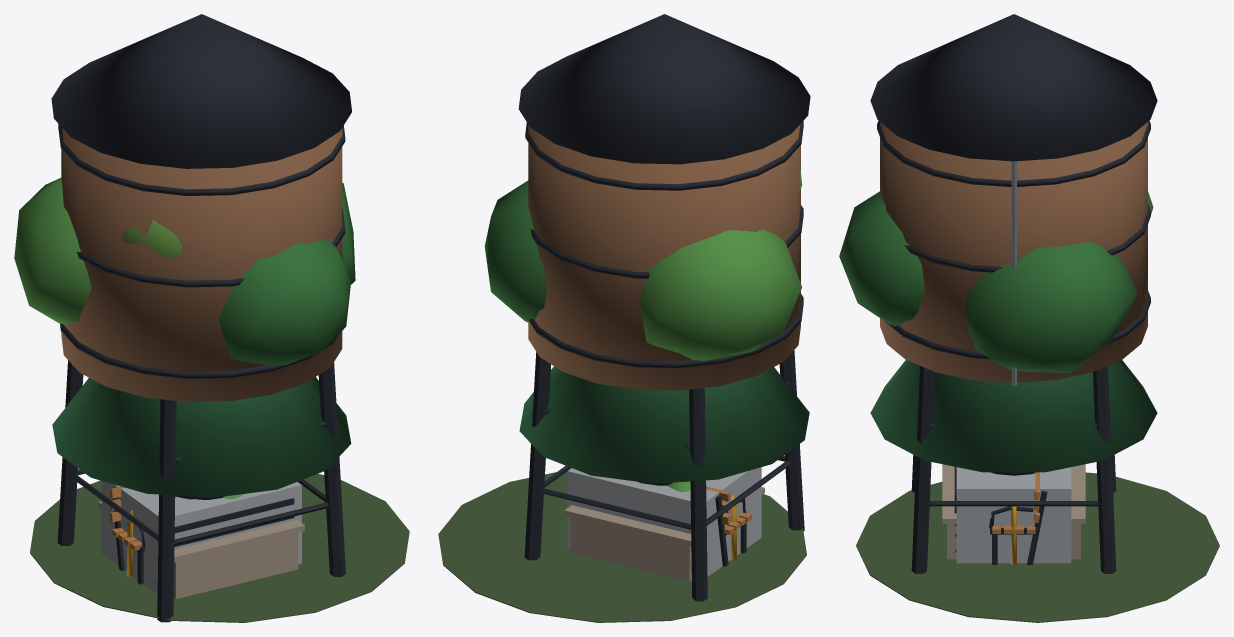
The model's file is street-kit.glb.
The picture shows the model from 3 angles, left to right: view 1: azimuth 30°, elevation 25°; view 2: azimuth 150°, elevation 25°; view 3: azimuth 270°, elevation 25°; orthographic projection. The views are drawn at different scales.
Parts seen in each view (by area): view 1: water_tower, tree_round, tree_tall, roof_unit, planter, bench; view 2: water_tower, tree_round, tree_tall, roof_unit, planter, bench; view 3: water_tower, tree_round, tree_tall, roof_unit, planter, bench.
Part boxes in pixels (x1,y1,x2,y2): water_tower: (51, 14, 351, 622); tree_round: (14, 178, 409, 622); tree_tall: (52, 377, 359, 600); roof_unit: (101, 481, 301, 593); planter: (98, 494, 304, 598); bench: (109, 486, 145, 584); water_tower: (518, 14, 810, 601); tree_round: (438, 168, 806, 622); tree_tall: (487, 366, 809, 599); roof_unit: (567, 467, 761, 576); planter: (564, 481, 764, 581); bench: (706, 486, 751, 566); water_tower: (870, 14, 1157, 573); tree_round: (839, 191, 1219, 622); tree_tall: (870, 360, 1171, 601); roof_unit: (954, 467, 1071, 563); planter: (942, 464, 1085, 559); bench: (988, 472, 1047, 564).
Size of what is drawn, in the model's own units: 3.99 by 6.01 by 3.98.
